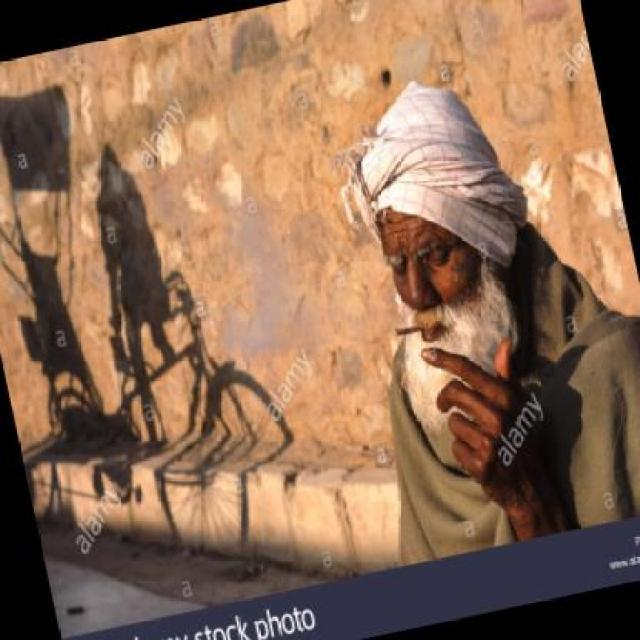smoke: (392, 319, 425, 338)
